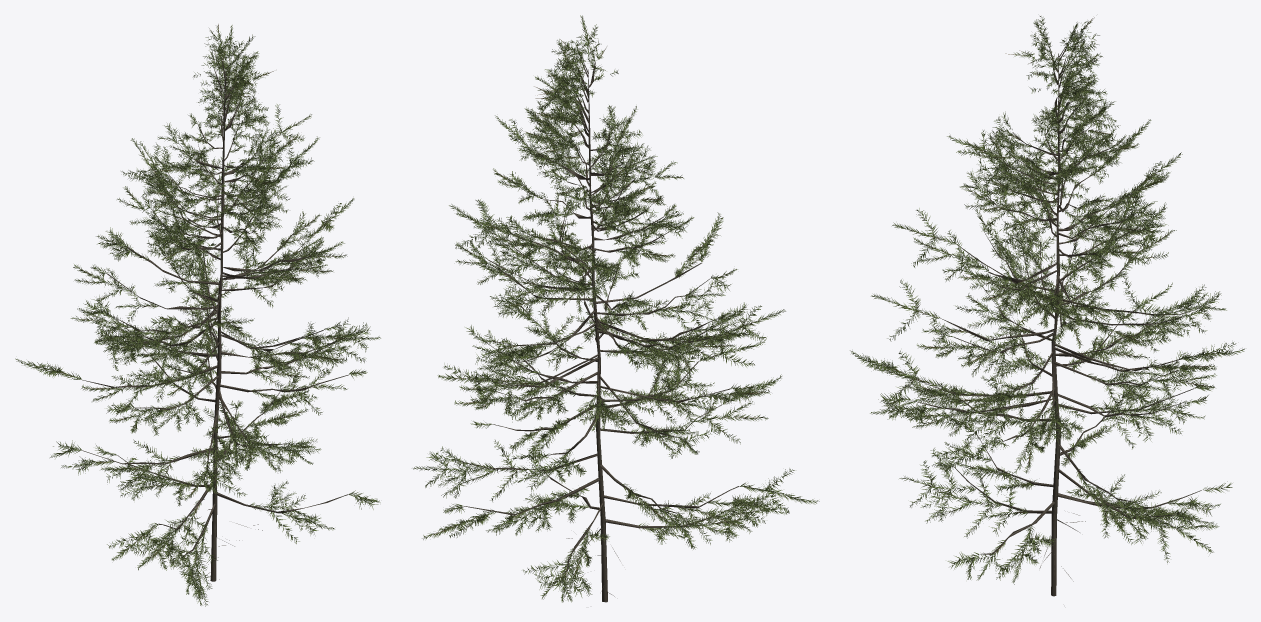
File: detail.fbx
3 views of the same model, side by side, from view 1: azimuth 30°, elevation 25°; view 2: azimuth 150°, elevation 25°; view 3: azimuth 270°, elevation 25° (orthographic). The views are drawn at different scales.
Parts seen in each view (by area): view 1: fir_sapling_medium_a_LOD0; view 2: fir_sapling_medium_a_LOD0; view 3: fir_sapling_medium_a_LOD0.
Part boxes in pixels (bbox=[...]): fir_sapling_medium_a_LOD0: bbox=[15, 24, 380, 606]; fir_sapling_medium_a_LOD0: bbox=[413, 15, 819, 602]; fir_sapling_medium_a_LOD0: bbox=[850, 16, 1244, 596].
Size of the model in its own units: 498 by 878 by 528.
